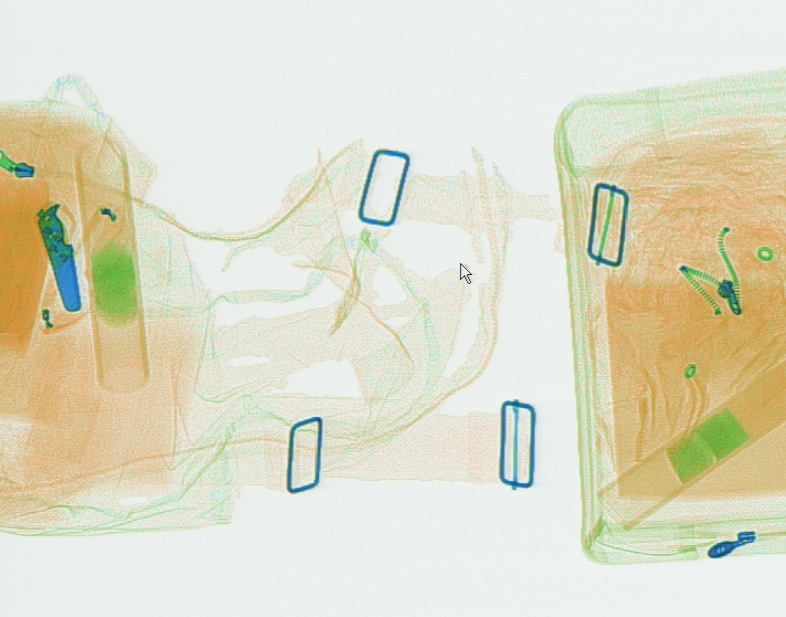firecrackers: (596, 357, 784, 531), (73, 134, 149, 393)
knife: (33, 202, 80, 311)
